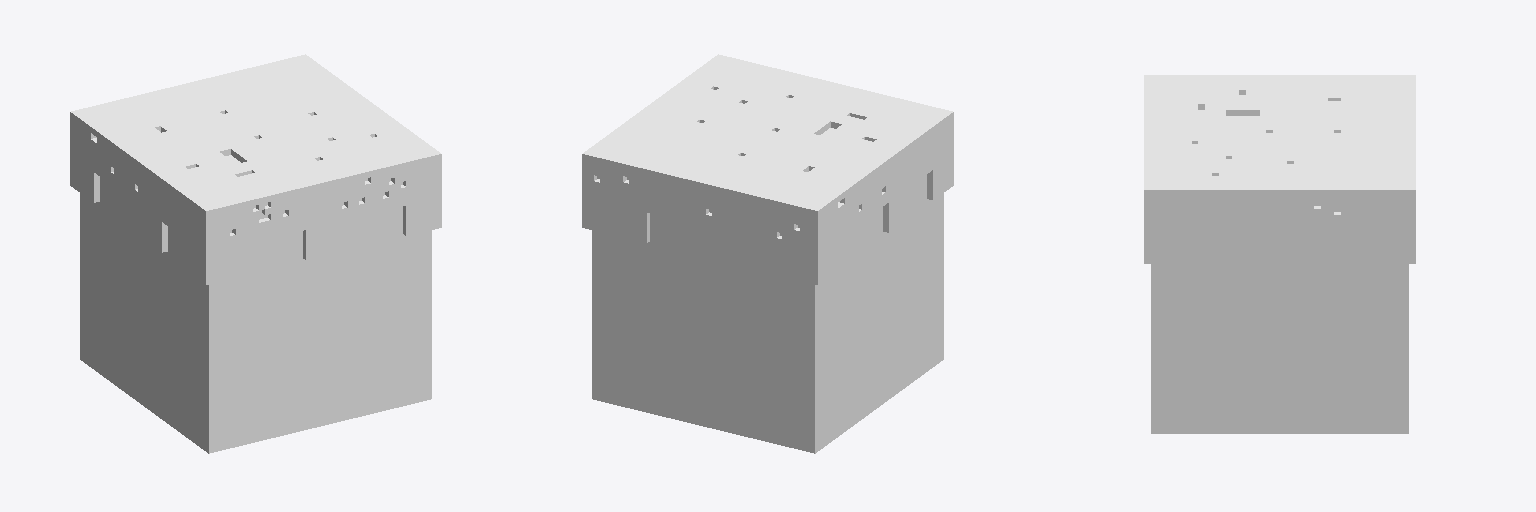
Rendered from tile_base_top_6.obj.
3 renders of one model, left to right at view 1: azimuth 30°, elevation 25°; view 2: azimuth 150°, elevation 25°; view 3: azimuth 270°, elevation 25°, orthographic.
Parts seen in each view (by area): view 1: tile_base_top_6; view 2: tile_base_top_6; view 3: tile_base_top_6.
Part boxes in pixels (left/top/right/bottom): tile_base_top_6: left=70, top=54, right=441, bottom=453; tile_base_top_6: left=582, top=54, right=953, bottom=453; tile_base_top_6: left=1144, top=75, right=1415, bottom=433.
Bounding box in the file's own units: 40 × 40 × 40.